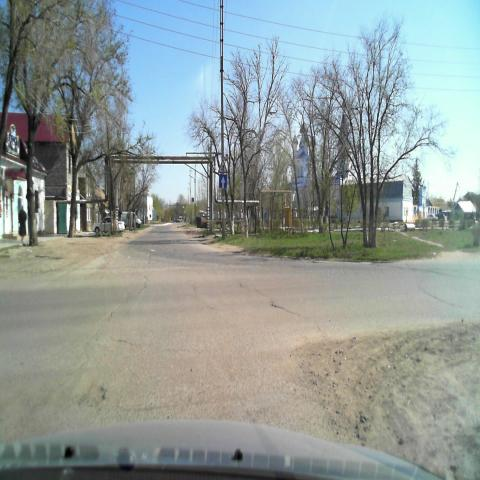1_21: (218, 159, 228, 173)
